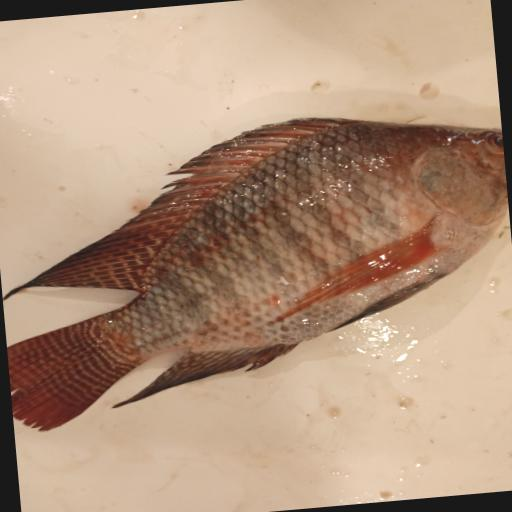Tilapia: (0, 100, 512, 434)
